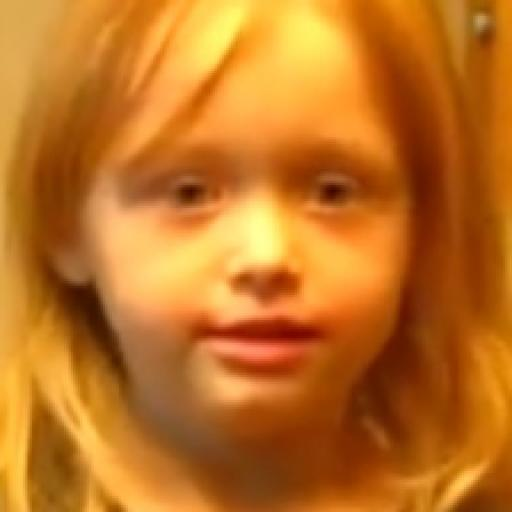Autism: (60, 27, 449, 457)
